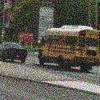buses: (37, 24, 100, 73)
